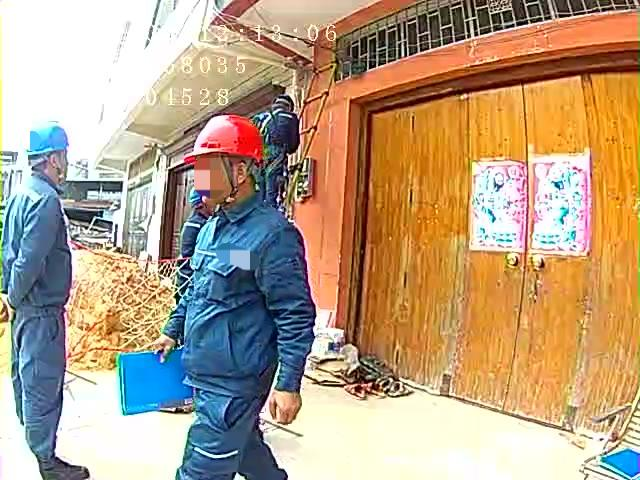halt: (185, 118, 267, 213), (28, 128, 74, 183), (191, 189, 212, 217), (277, 97, 297, 115)
inear: (220, 157, 259, 196), (46, 153, 62, 172)
